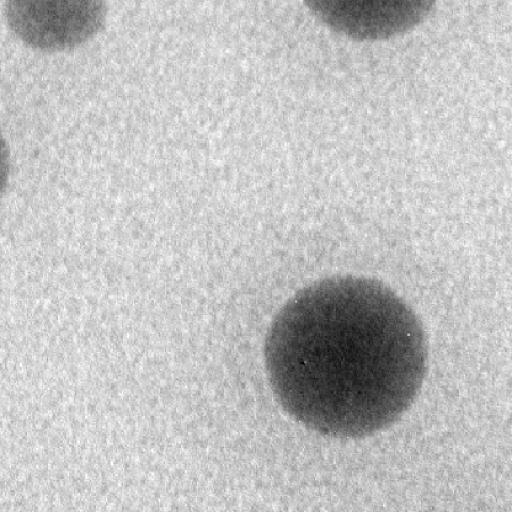Nanoparticles: (260, 276, 432, 436), (300, 0, 441, 41), (6, 0, 108, 56), (0, 136, 19, 192)
